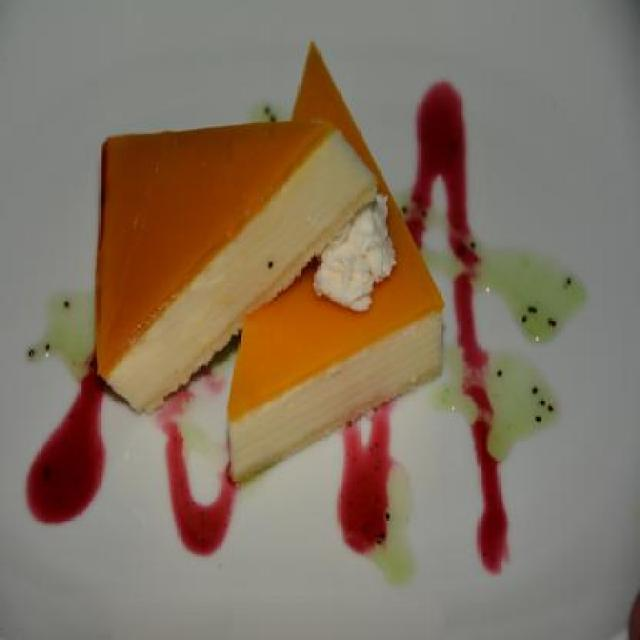Cheese: (316, 190, 398, 316)
